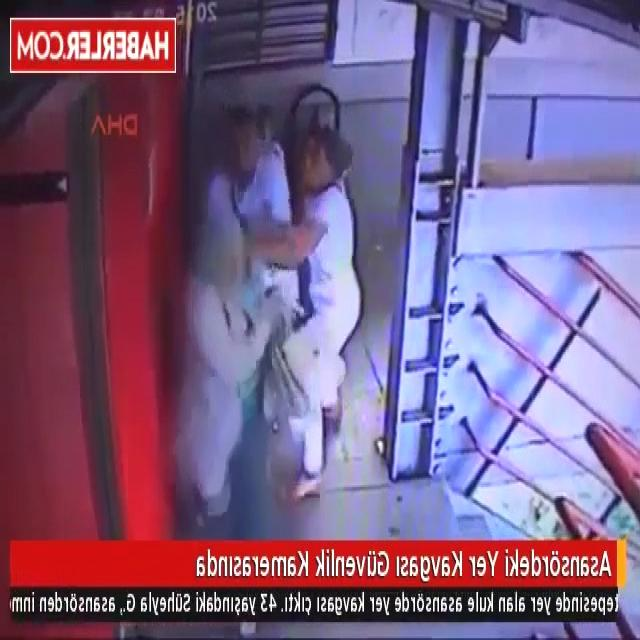fight: (168, 123, 368, 536)
